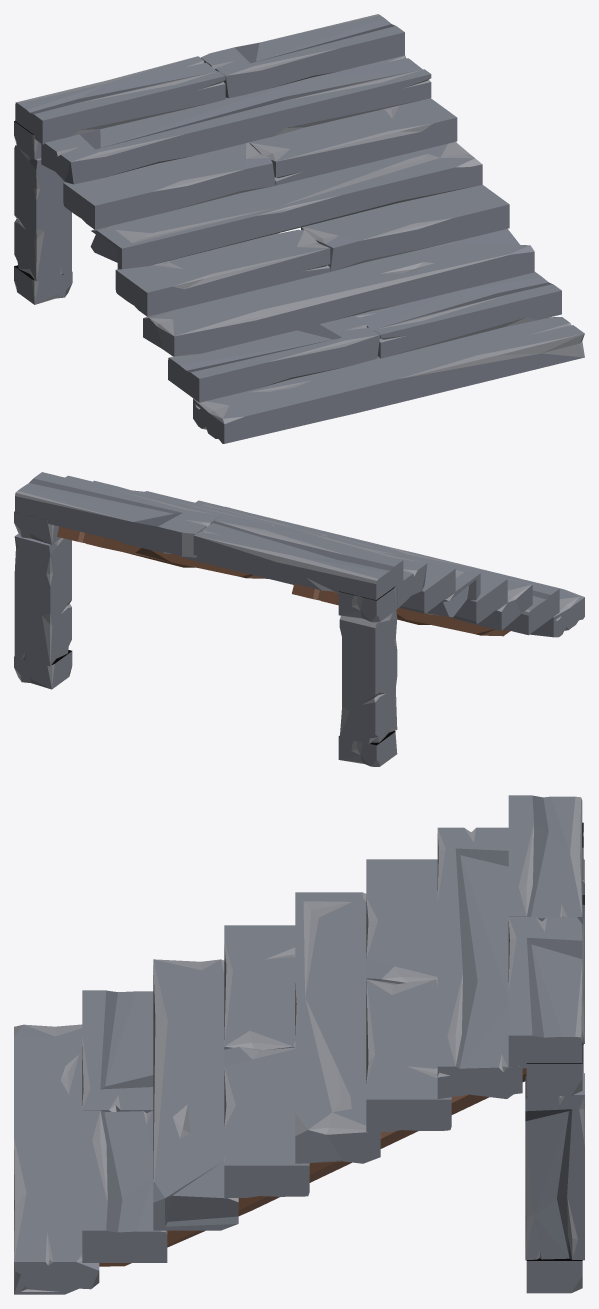
The model's file is mesh_stone_stairs_big.fbx.
3 renders of one model, top to bottom at view 1: azimuth 30°, elevation 25°; view 2: azimuth 150°, elevation 25°; view 3: azimuth 270°, elevation 25°, orthographic. The views are drawn at different scales.
Parts seen in each view (by area): view 1: mesh_stone_stairs_big; view 2: mesh_stone_stairs_big; view 3: mesh_stone_stairs_big.
Part boxes in pixels (x1,y1,x2,y2): mesh_stone_stairs_big: (14, 14, 584, 443); mesh_stone_stairs_big: (14, 472, 584, 766); mesh_stone_stairs_big: (14, 795, 584, 1294).
Size of the model in its own units: 2.01 by 1.02 by 2.01.
